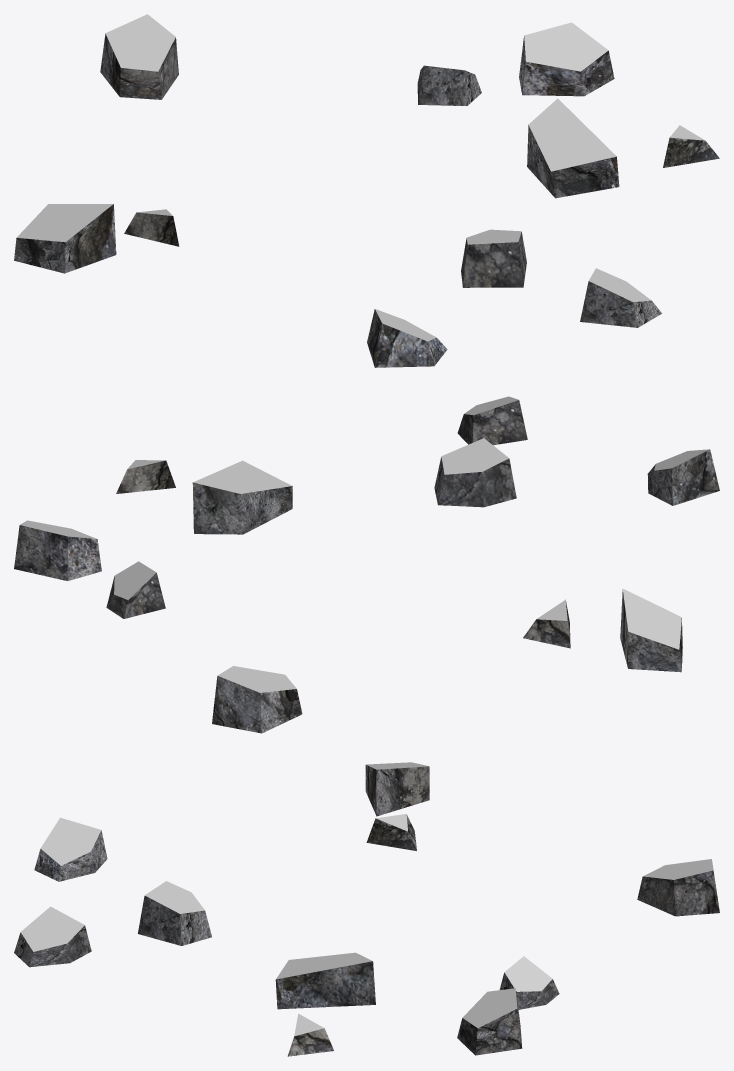
The model's file is Debris_small1_LOD0.fbx.
The picture shows the model from 3 angles, top to bottom: view 1: azimuth 30°, elevation 25°; view 2: azimuth 150°, elevation 25°; view 3: azimuth 270°, elevation 25°; orthographic projection. The views are drawn at different scales.
Visible parts, largest first — view 1: polySurface63; view 2: polySurface63; view 3: polySurface63.
Boxes of the visible parts, bbox=[...] form: polySurface63: bbox=[14, 14, 719, 367]; polySurface63: bbox=[14, 396, 719, 733]; polySurface63: bbox=[14, 762, 719, 1056].
Size of the model in its own units: 1.96 by 0.1616 by 2.13.
